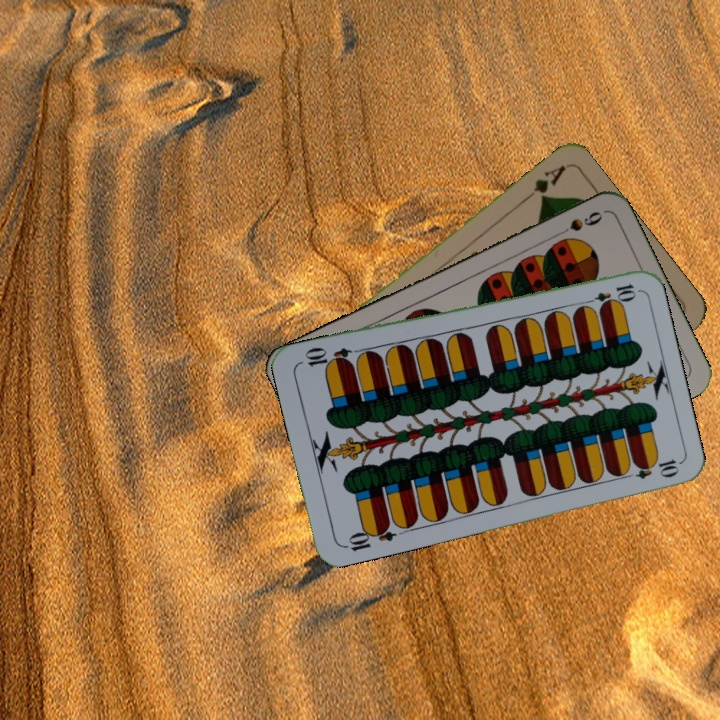E10: (339, 519, 398, 554), (580, 280, 639, 309)
GA: (518, 161, 568, 205)
S9: (550, 207, 605, 241)
